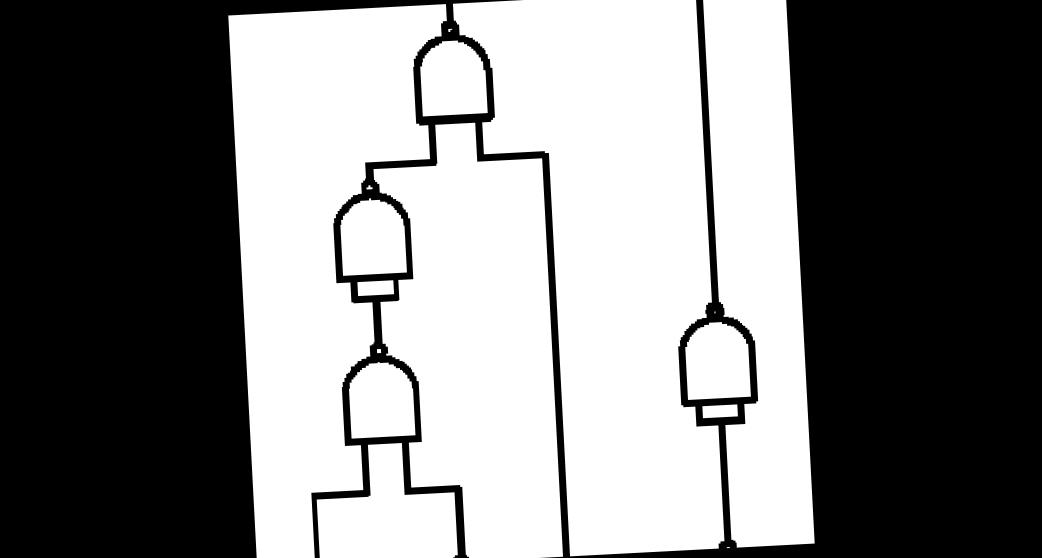nand: (328, 333, 432, 458), (400, 10, 500, 134), (320, 170, 420, 292), (668, 291, 764, 416)
